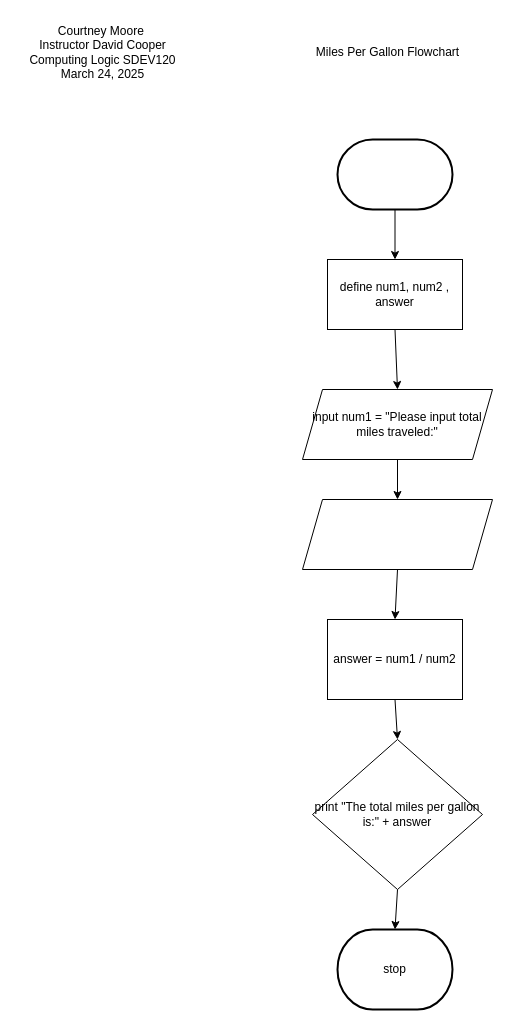
Some shapes in this 510 by 1027 pixel diagram are drawn without their labels. The centre of each missing label's shape, as x and y in pixels:
input num2 = "Please input total gallons of gas used:": (x=397, y=534)
start: (x=394, y=174)
